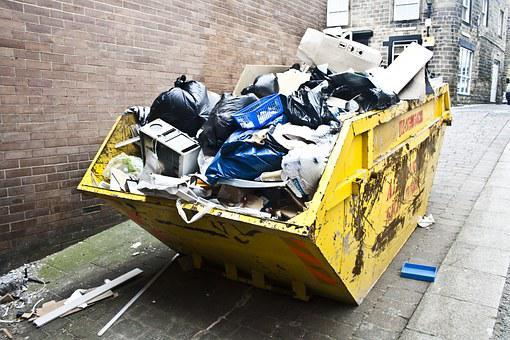garbage: (54, 25, 437, 232)
